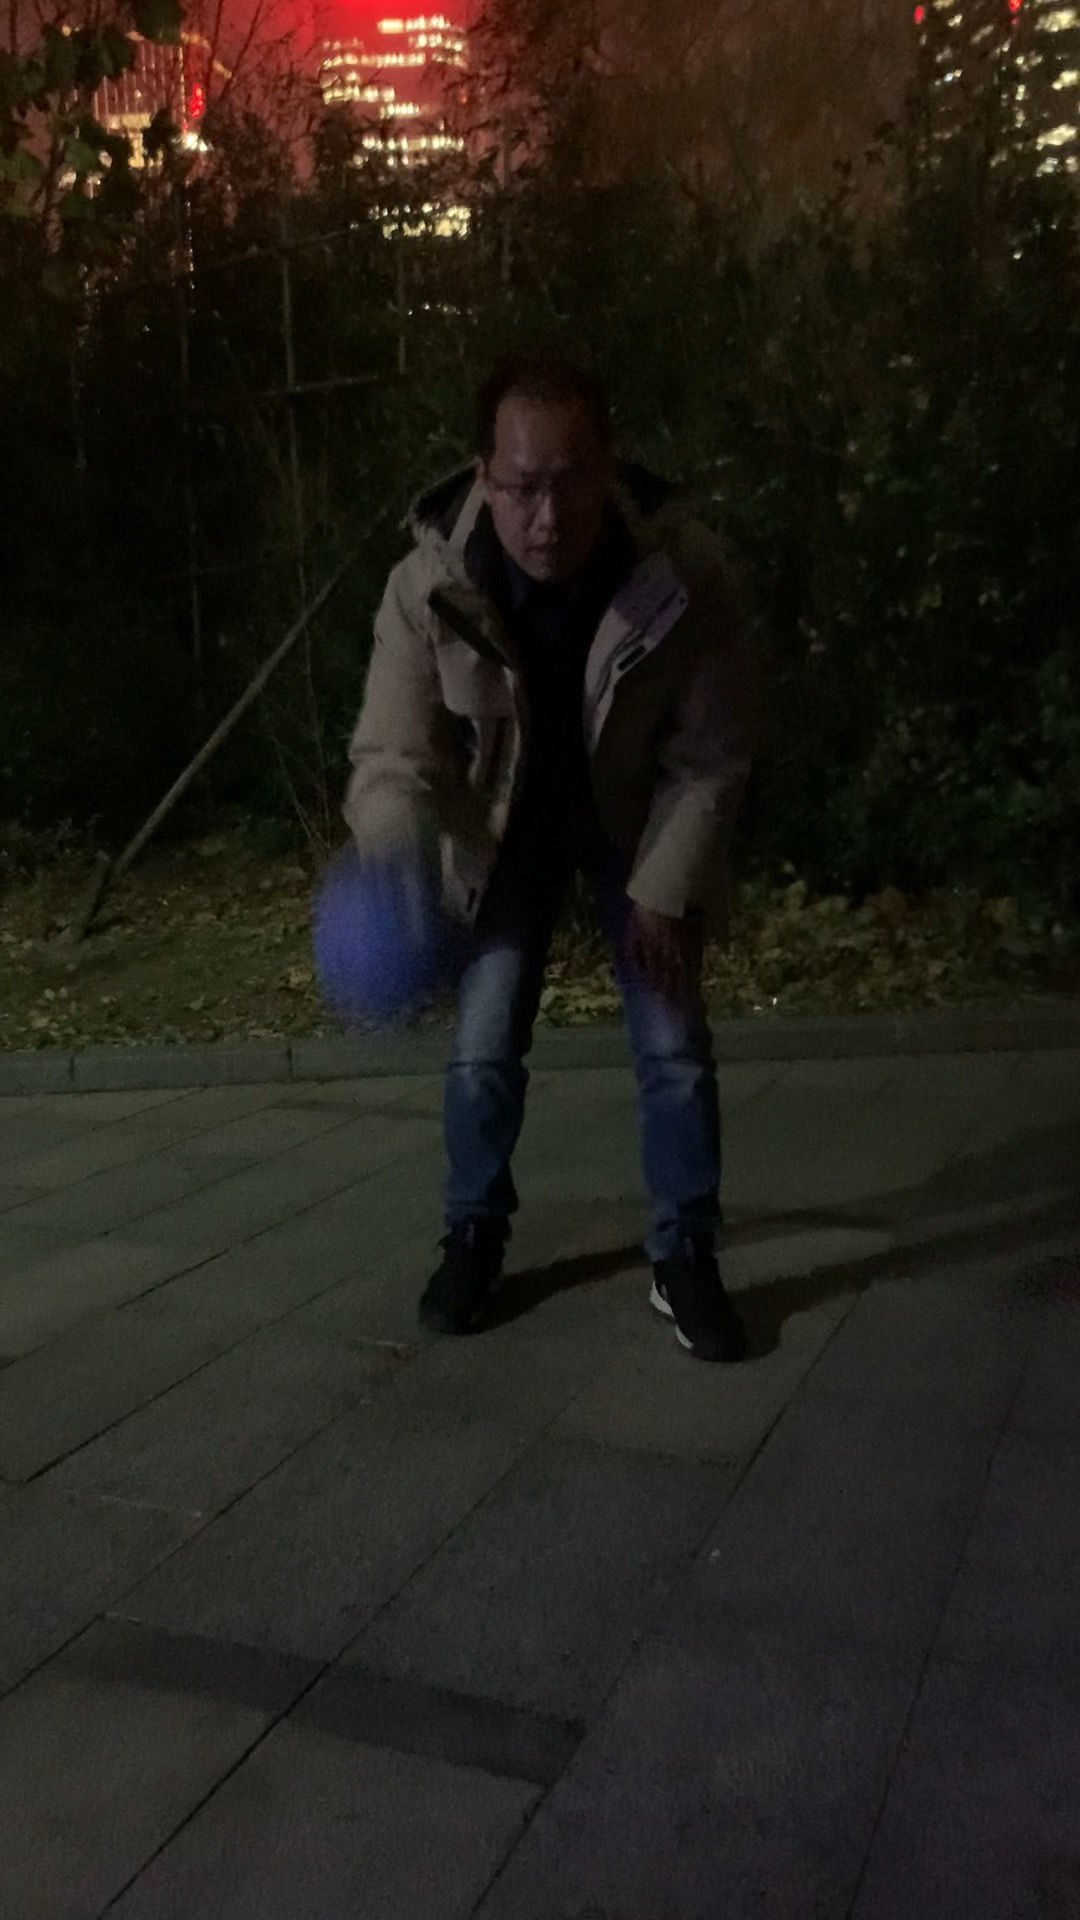ball: (311, 861, 483, 1011)
